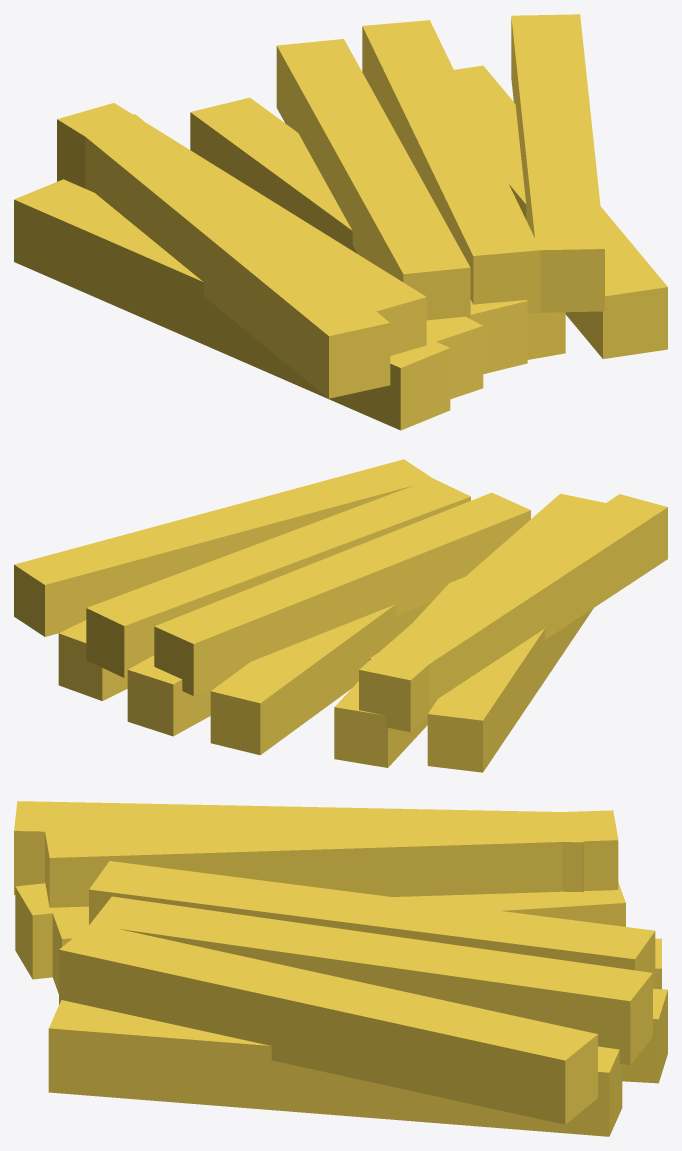
The model's file is Potato_01_Ready_01.fbx.
The picture shows the model from 3 angles, top to bottom: view 1: azimuth 30°, elevation 25°; view 2: azimuth 150°, elevation 25°; view 3: azimuth 270°, elevation 25°; orthographic projection. The views are drawn at different scales.
Parts seen in each view (by area): view 1: Potato_01_Ready_01; view 2: Potato_01_Ready_01; view 3: Potato_01_Ready_01.
Boxes of the visible parts, x1,y1,x2,y2 form: Potato_01_Ready_01: [14, 14, 667, 430]; Potato_01_Ready_01: [14, 459, 667, 772]; Potato_01_Ready_01: [14, 801, 667, 1136].
Bounding box in the file's own units: 49.97 × 9.38 × 48.84.
